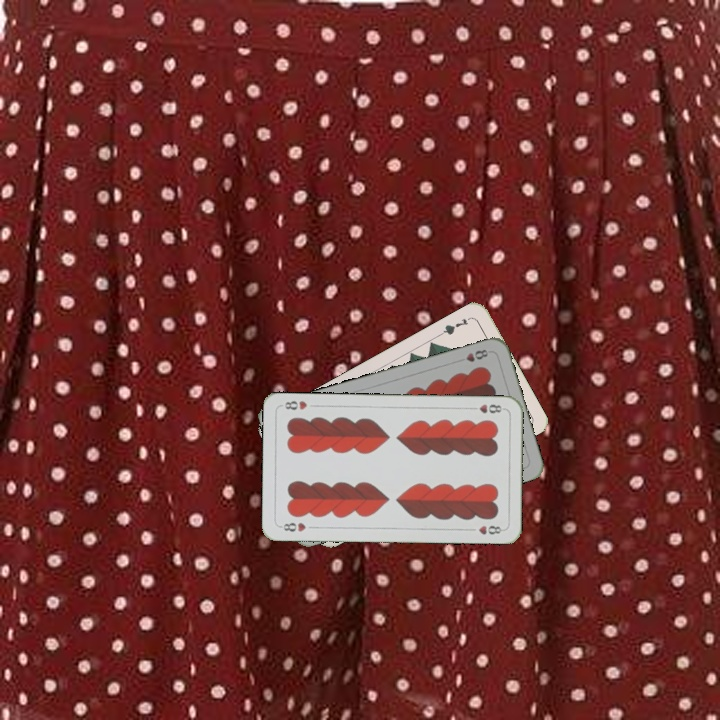G7: (437, 314, 471, 338)
H8: (453, 345, 490, 365), (466, 400, 507, 416), (276, 518, 308, 534)
